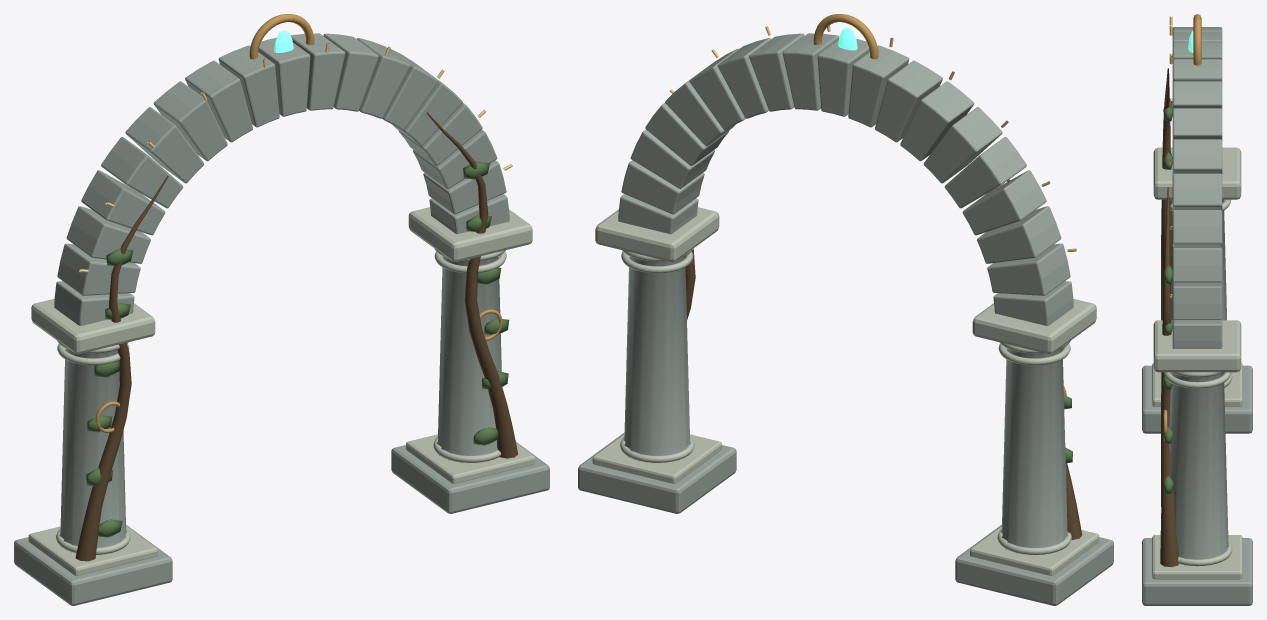
Rendered from MoonGate.fbx.
The picture shows the model from 3 angles, left to right: view 1: azimuth 30°, elevation 25°; view 2: azimuth 150°, elevation 25°; view 3: azimuth 270°, elevation 25°; orthographic projection. The views are drawn at different scales.
Visible parts, largest first — view 1: Fluted limestone.001_export, Fluted limestone_export, Foundation_export, Foundation.001_export, Entwined root_export, Entwined root.001_export, Capital_export, Capital.001_export, Weathered voussoir.012_export, Weathered voussoir.013_export, Weathered voussoir.011_export, Weathered voussoir.015_export (+18 smaller); view 2: Fluted limestone.001_export, Fluted limestone_export, Foundation.001_export, Foundation_export, Capital_export, Capital.001_export, Weathered voussoir.016_export, Weathered voussoir.012_export, Weathered voussoir.015_export, Weathered voussoir.013_export, Weathered voussoir.011_export, Weathered voussoir.017_export (+17 smaller); view 3: Fluted limestone.001_export, Foundation.001_export, Capital.001_export, Entwined root.001_export, Foundation_export, Stylobate.001_export, Weathered voussoir.001_export, Weathered voussoir.003_export, Weathered voussoir.004_export, Capital_export, Weathered voussoir.005_export, Weathered voussoir.002_export (+14 smaller).
Boxes of the visible parts, x1,y1,x2,y2 form: Fluted limestone.001_export: [437, 256, 501, 463]; Fluted limestone_export: [57, 348, 126, 555]; Foundation_export: [14, 525, 172, 605]; Foundation.001_export: [391, 442, 549, 513]; Entwined root_export: [75, 175, 168, 561]; Entwined root.001_export: [426, 112, 517, 458]; Capital_export: [31, 299, 155, 354]; Capital.001_export: [408, 207, 532, 261]; Weathered voussoir.012_export: [153, 81, 227, 161]; Weathered voussoir.013_export: [125, 107, 204, 183]; Weathered voussoir.011_export: [185, 60, 252, 142]; Weathered voussoir.015_export: [81, 170, 165, 235]; Fluted limestone.001_export: [623, 256, 690, 463]; Fluted limestone_export: [1001, 348, 1070, 555]; Foundation.001_export: [578, 432, 736, 513]; Foundation_export: [955, 525, 1113, 605]; Capital_export: [972, 299, 1096, 354]; Capital.001_export: [595, 207, 719, 261]; Weathered voussoir.016_export: [977, 206, 1061, 263]; Weathered voussoir.012_export: [900, 81, 974, 161]; Weathered voussoir.015_export: [962, 170, 1046, 235]; Weathered voussoir.013_export: [923, 107, 1002, 183]; Weathered voussoir.011_export: [875, 60, 942, 142]; Weathered voussoir.017_export: [987, 243, 1070, 295]; Fluted limestone.001_export: [1169, 372, 1229, 566]; Foundation.001_export: [1142, 538, 1252, 605]; Capital.001_export: [1153, 320, 1241, 372]; Entwined root.001_export: [1160, 187, 1178, 567]; Foundation_export: [1142, 365, 1252, 433]; Stylobate.001_export: [1152, 535, 1242, 579]; Weathered voussoir.001_export: [1172, 281, 1222, 319]; Weathered voussoir.003_export: [1172, 210, 1222, 247]; Weathered voussoir.004_export: [1172, 173, 1222, 211]; Capital_export: [1153, 147, 1241, 199]; Weathered voussoir.005_export: [1172, 139, 1222, 174]; Weathered voussoir.002_export: [1172, 248, 1222, 282].
Size of the model in its own units: 1780 by 1826 by 380.
